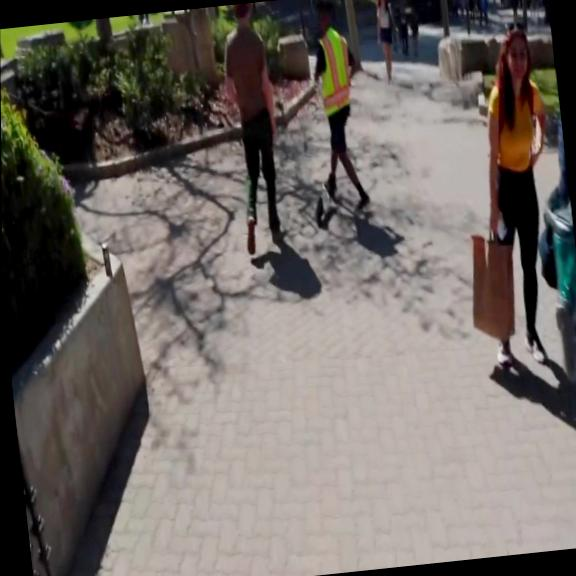safety_vest: (315, 27, 354, 114)
